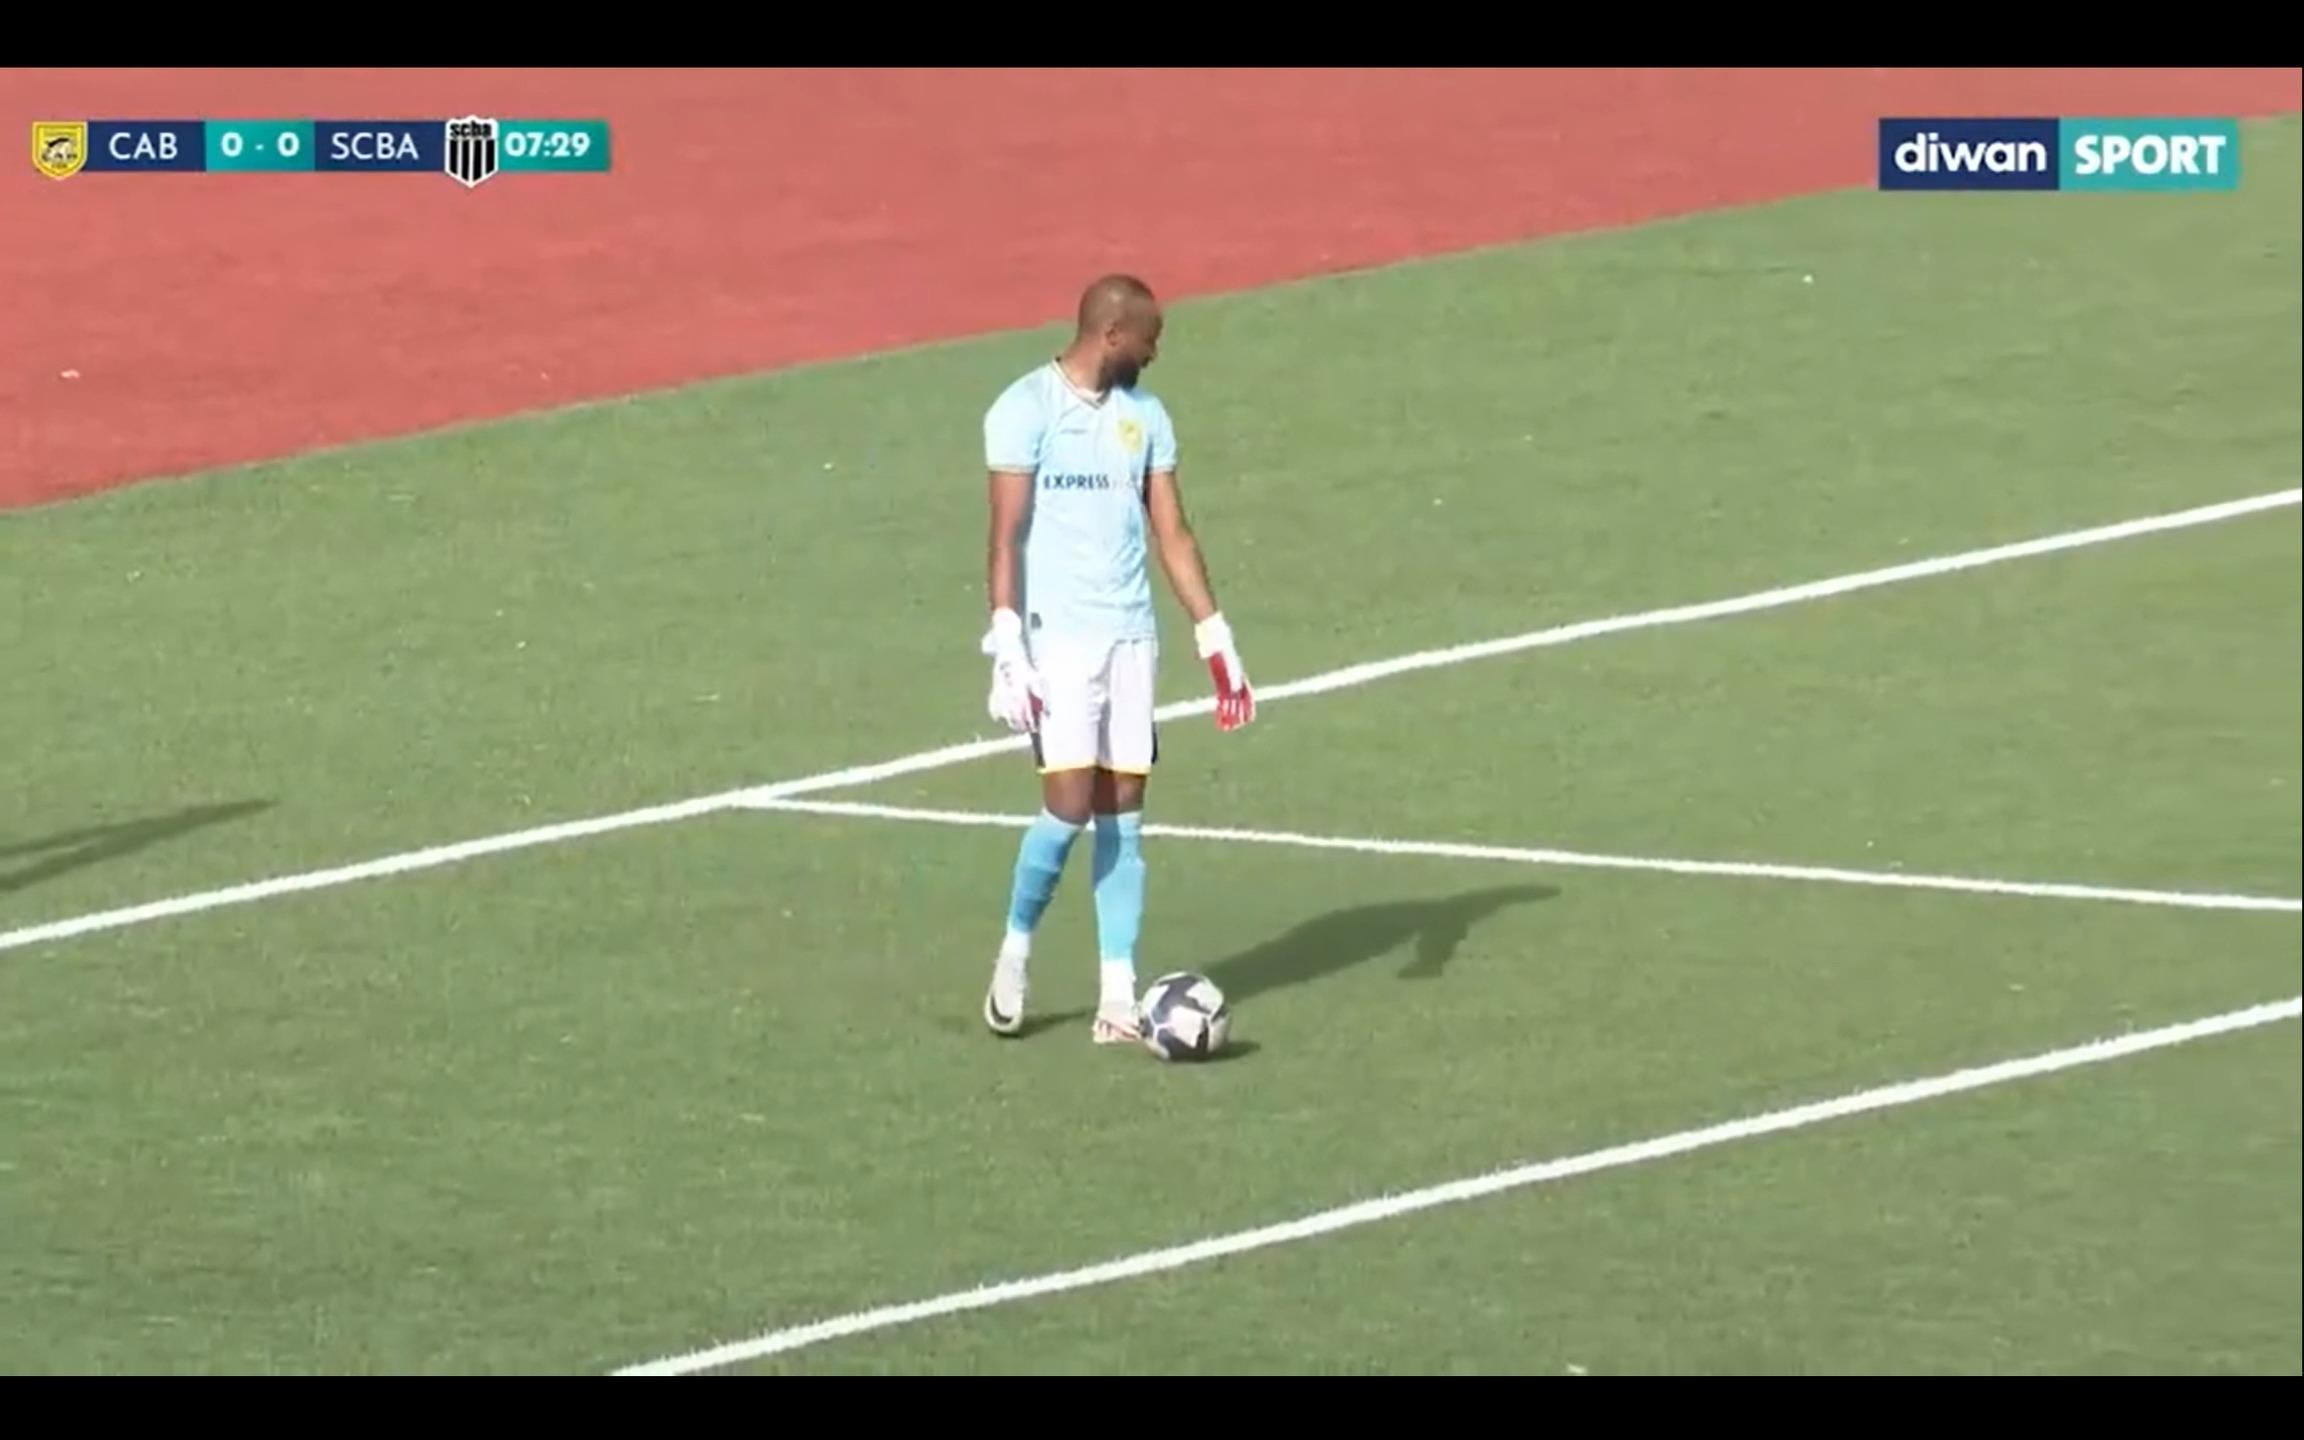ball: (1118, 914, 1259, 1105)
goalkeeper: (907, 221, 1312, 1072)
